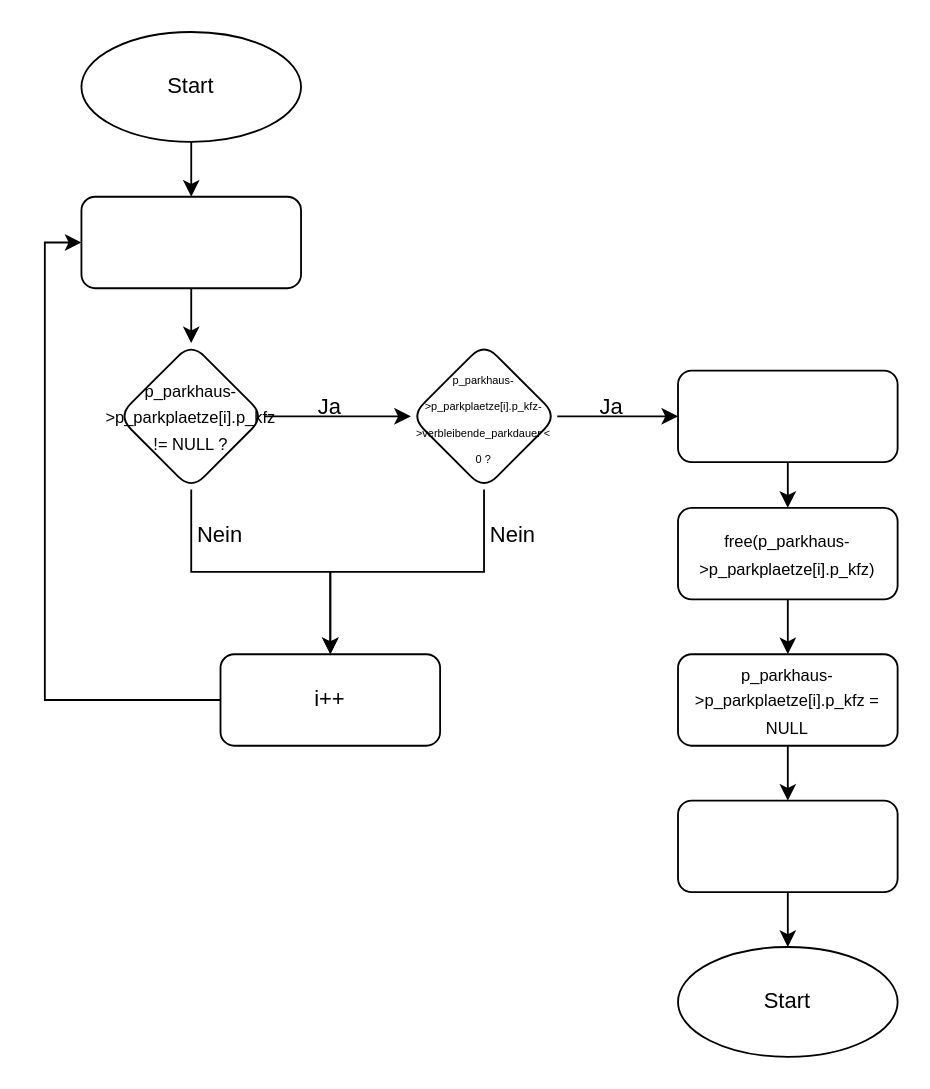
Image size: 930x1089. Some labels were removed from this diagram. The shapes that lost their labels are listed below. From the top down, each one's centre as x and y in pixels, then its label:
the point at 190,241: Schleife (i = 0 bis i < p_parkhaus->anzahl_parkplaetze):
the point at 787,415: p_parkhaus->p_parkplaetze[i].belegt = 0
the point at 787,845: Ausgabe: "..."
